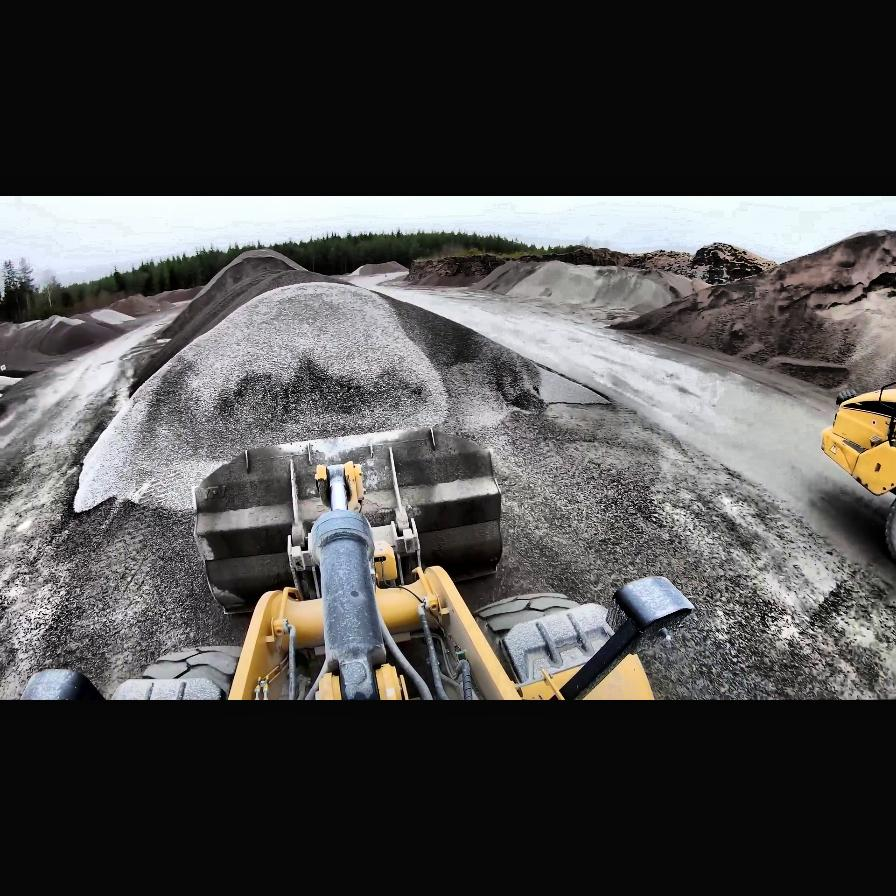anchor: (312, 462, 366, 512)
pile of gravel: (64, 256, 612, 520), (604, 225, 895, 391), (149, 249, 319, 342), (482, 260, 690, 312), (0, 314, 132, 372), (98, 294, 170, 318), (343, 262, 409, 278), (151, 288, 201, 306), (85, 308, 135, 326), (38, 314, 88, 330), (0, 371, 26, 397)
